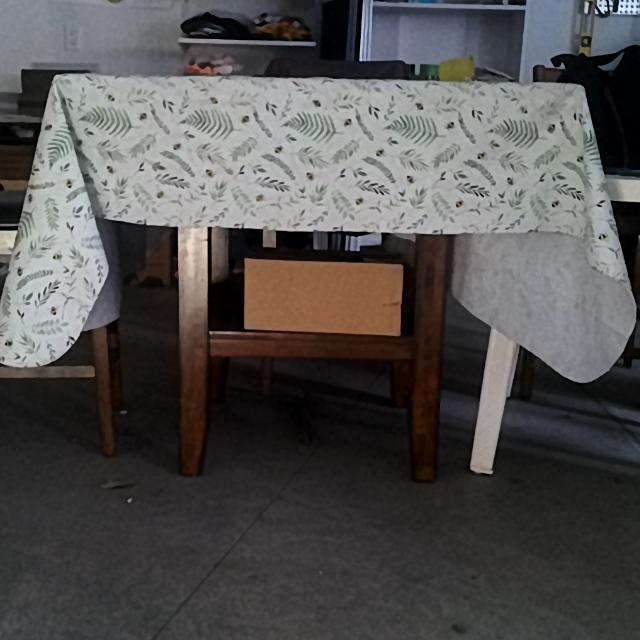box: (244, 263, 402, 332)
